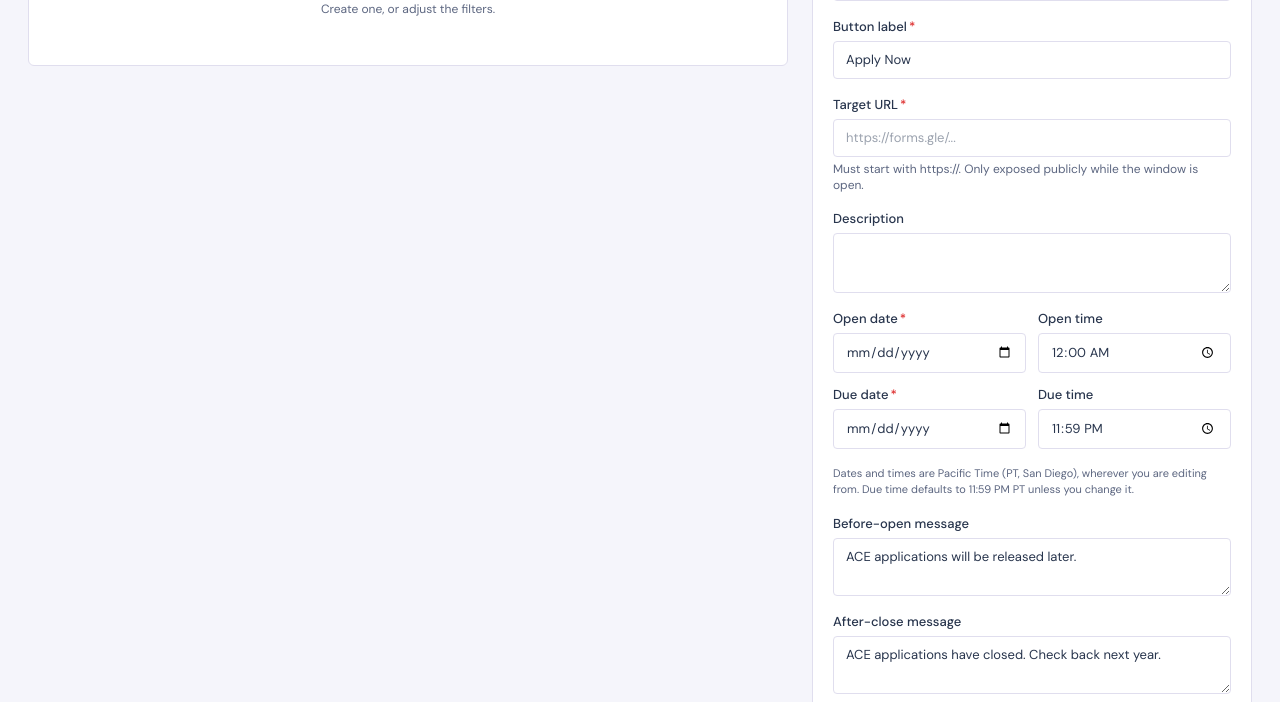
Test: guardrails › highlights an open date that is already in the past
(page scrolled)
Step 1. Type "2020-01-01" into the date field labelled "Open date*" → (930, 353), box [833,333,1026,373]
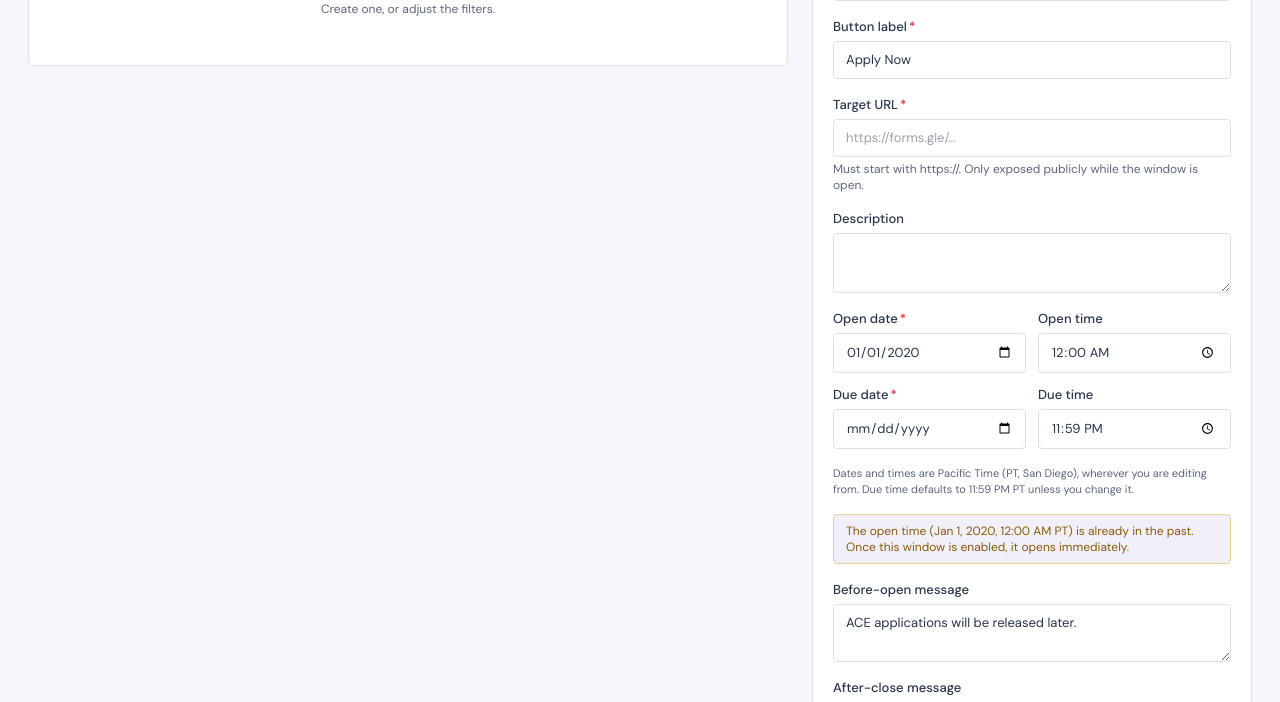
expect the text "is already in the past" is shown: met, box [1068,523,1194,539]
